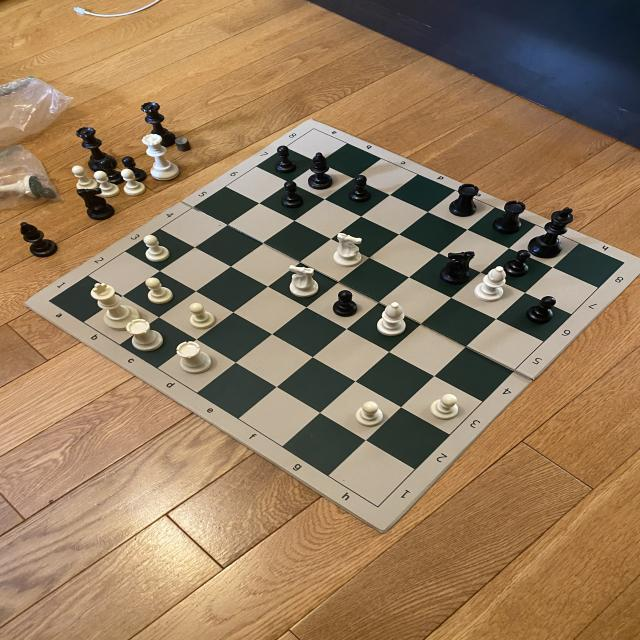Chessboard-Corners: (370, 498, 388, 512), (616, 256, 629, 268), (40, 296, 56, 305), (308, 126, 319, 136)
